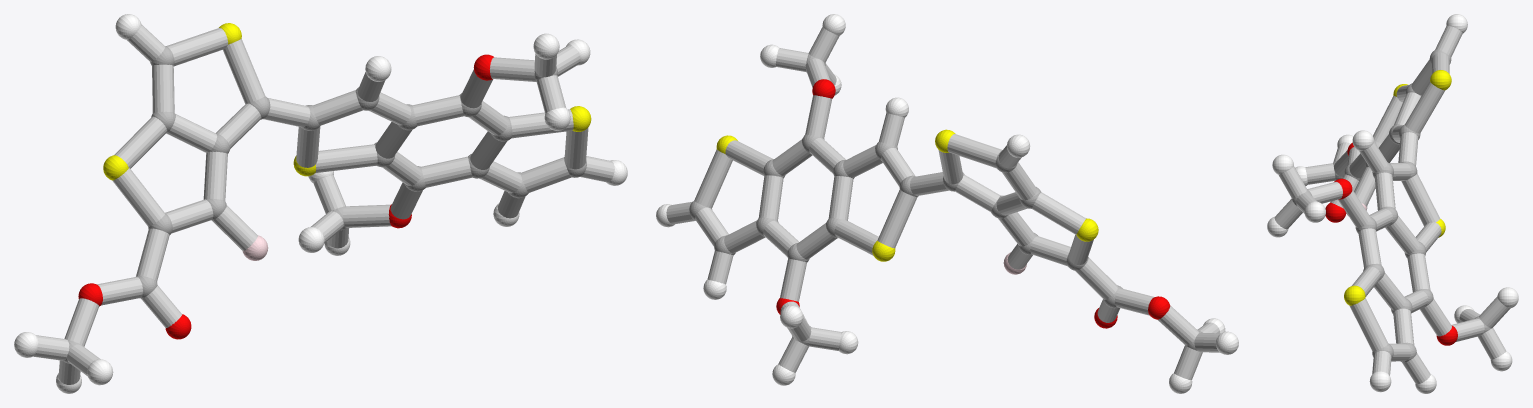
The model's file is color.glb.
The picture shows the model from 3 angles, left to right: view 1: azimuth 30°, elevation 25°; view 2: azimuth 150°, elevation 25°; view 3: azimuth 270°, elevation 25°; orthographic projection. The views are drawn at different scales.
Parts seen in each view (by area): view 1: grp15205, grp8689, grp1, grp13395, grp7241; view 2: grp15205, grp8689, grp1, grp7241, grp13395; view 3: grp15205, grp8689, grp1, grp7241, grp13395.
Boxes of the visible parts, left/top/right/bottom form: grp15205: left=33, top=24, right=614, bottom=384; grp8689: left=14, top=14, right=627, bottom=393; grp1: left=63, top=46, right=586, bottom=363; grp13395: left=78, top=54, right=493, bottom=339; grp7241: left=103, top=23, right=591, bottom=180; grp15205: left=666, top=27, right=1220, bottom=380; grp8689: left=656, top=14, right=1238, bottom=393; grp1: left=689, top=54, right=1202, bottom=350; grp7241: left=716, top=129, right=1098, bottom=261; grp13395: left=776, top=79, right=1170, bottom=328; grp15205: left=1274, top=25, right=1510, bottom=383; grp8689: left=1267, top=14, right=1518, bottom=393; grp1: left=1292, top=49, right=1491, bottom=362; grp7241: left=1344, top=70, right=1451, bottom=305; grp13395: left=1325, top=142, right=1457, bottom=345.
Size of the model in its own units: 16.64 by 8 by 7.
